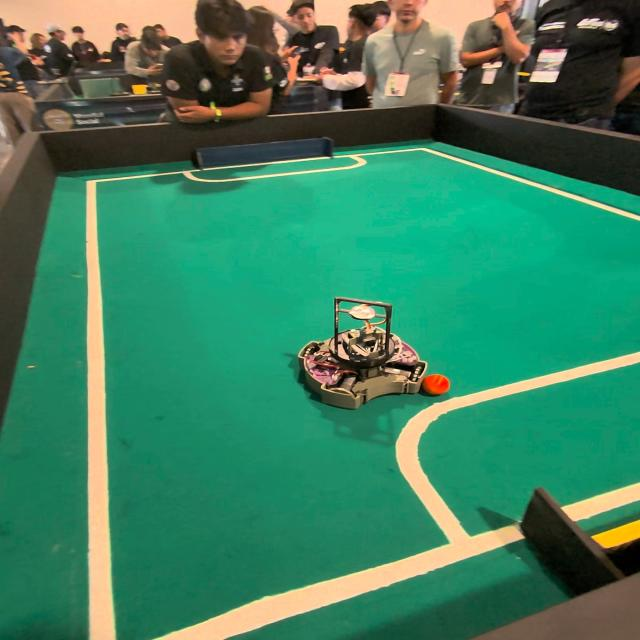Robot: (299, 293, 421, 409)
pelota: (422, 367, 457, 411)
